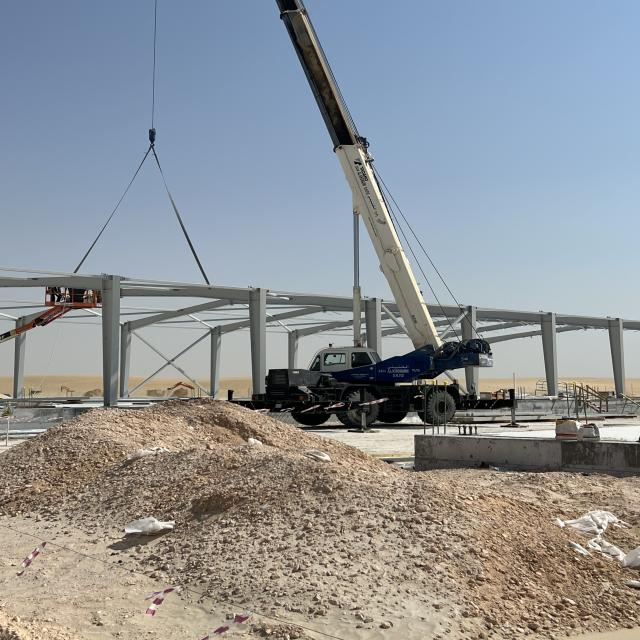Mobile Crane: (259, 0, 494, 437)
